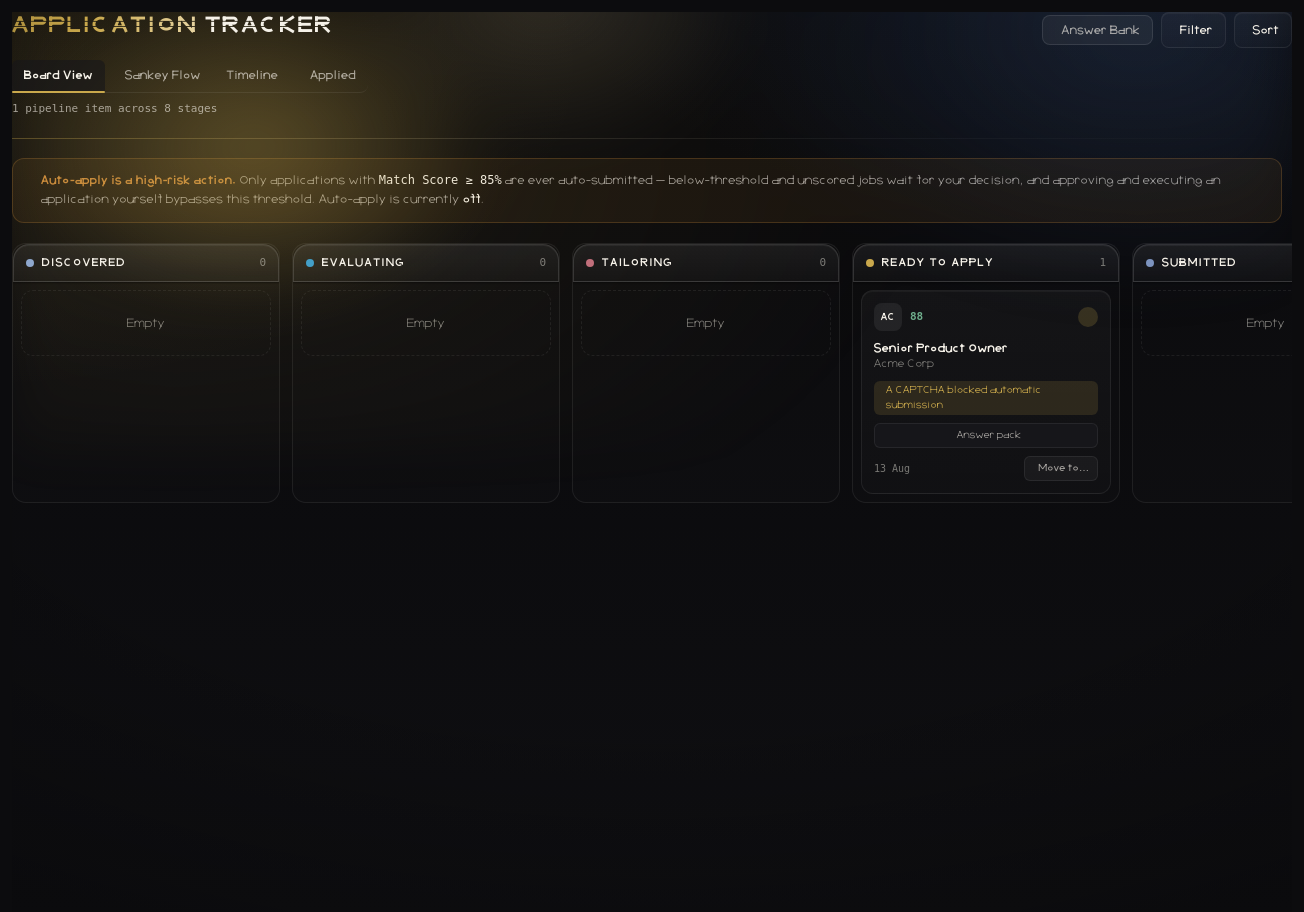
Test: U5 — a blocked application is shown as actionable, never as 'prepared only' › shows a detail-free obstacle (CAPTCHA) without inventing a question
Click the button "Senior Product Owner": (941, 348) [874, 341, 1008, 356]
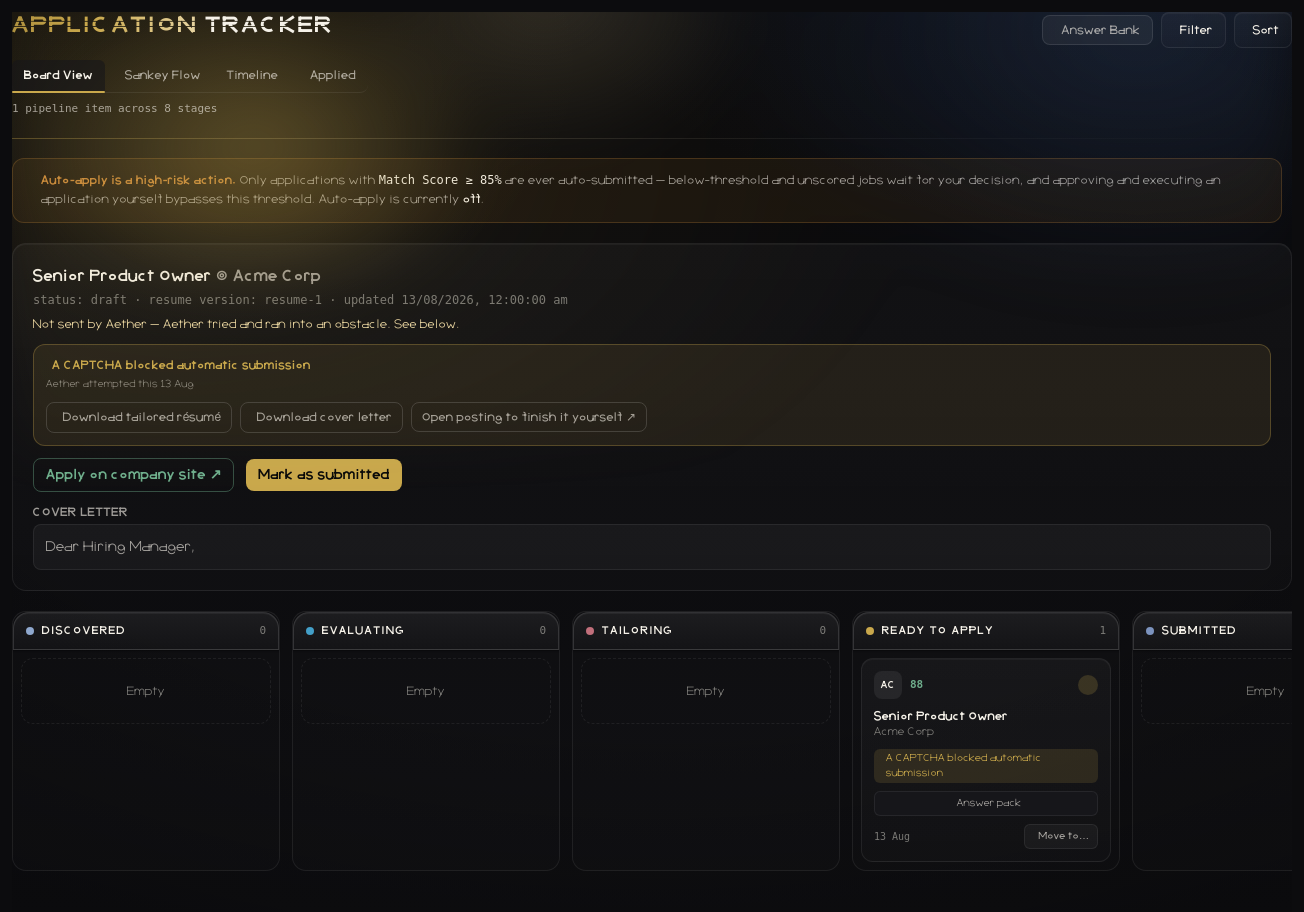
Now the element with test id "application-manual-step-block" shows "A CAPTCHA blocked automatic submission", box [52, 358, 311, 370]
